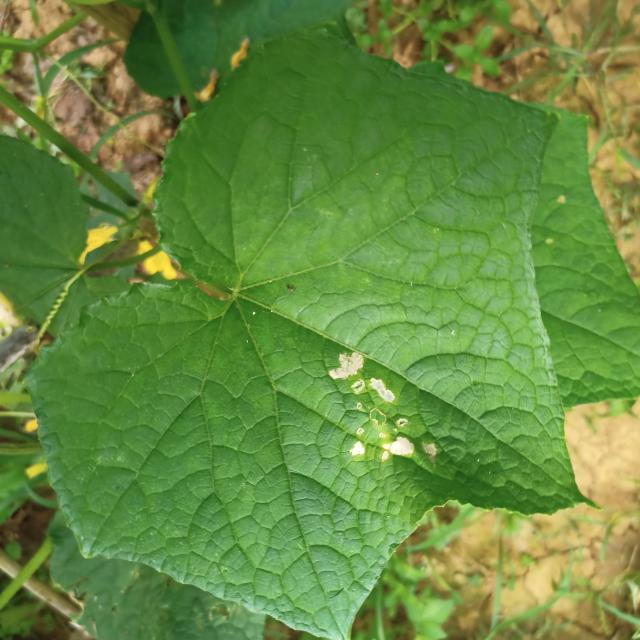disease_cucumber: (322, 344, 440, 467)
